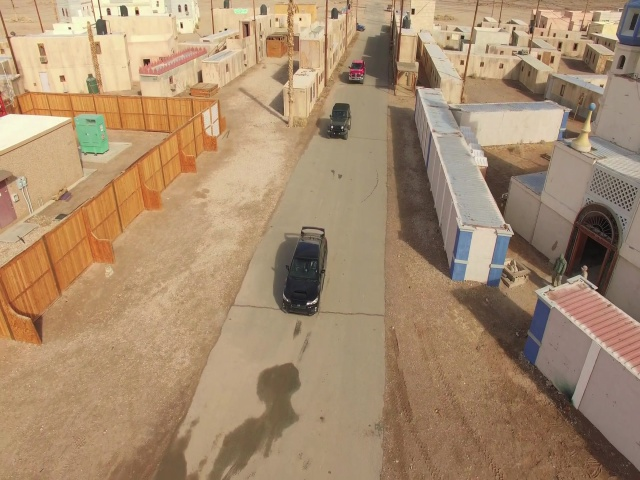vehicle: (281, 225, 330, 315), (328, 102, 352, 140), (347, 60, 367, 84)
